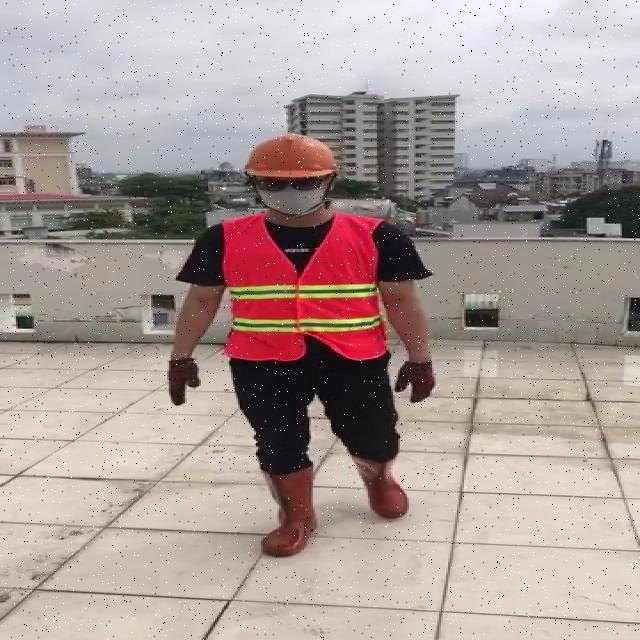Hard_hat: (238, 129, 343, 187)
Vest: (222, 211, 385, 362)
